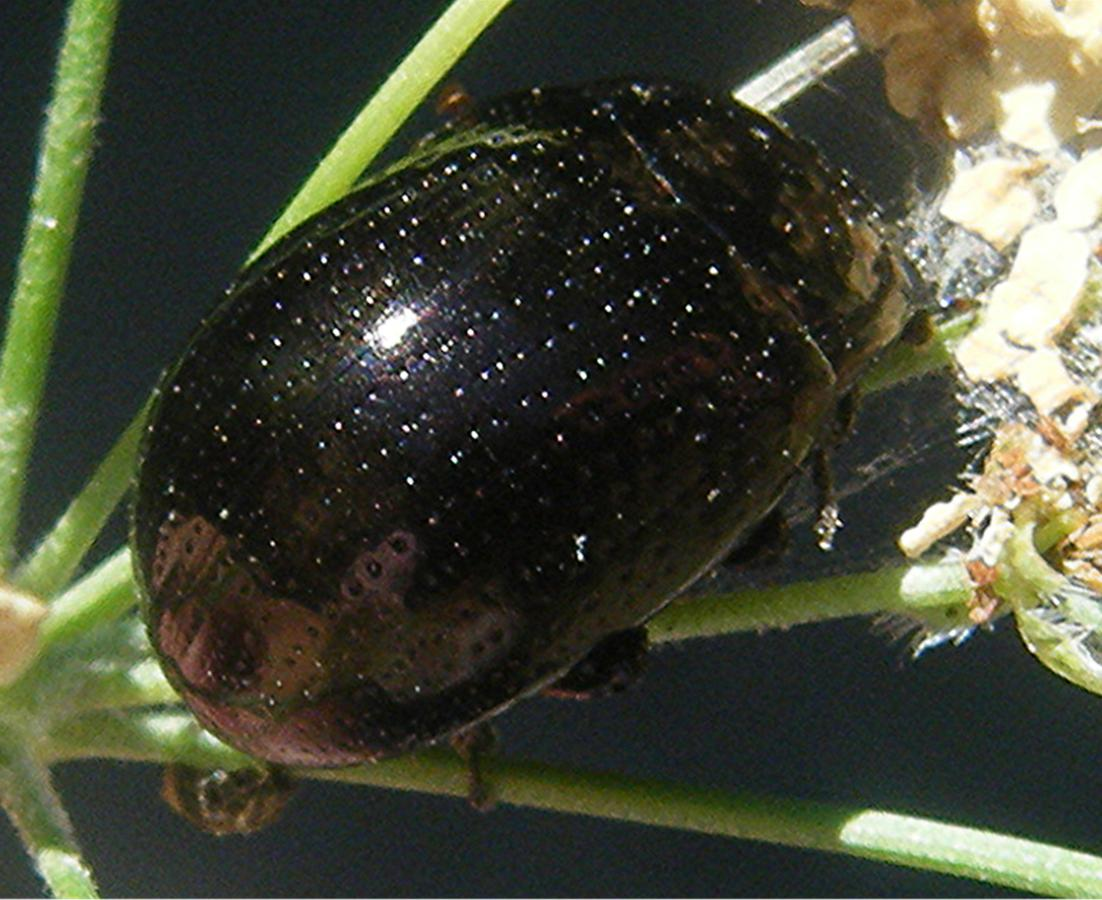Chrysolina_oricalcia: (109, 66, 945, 789)
